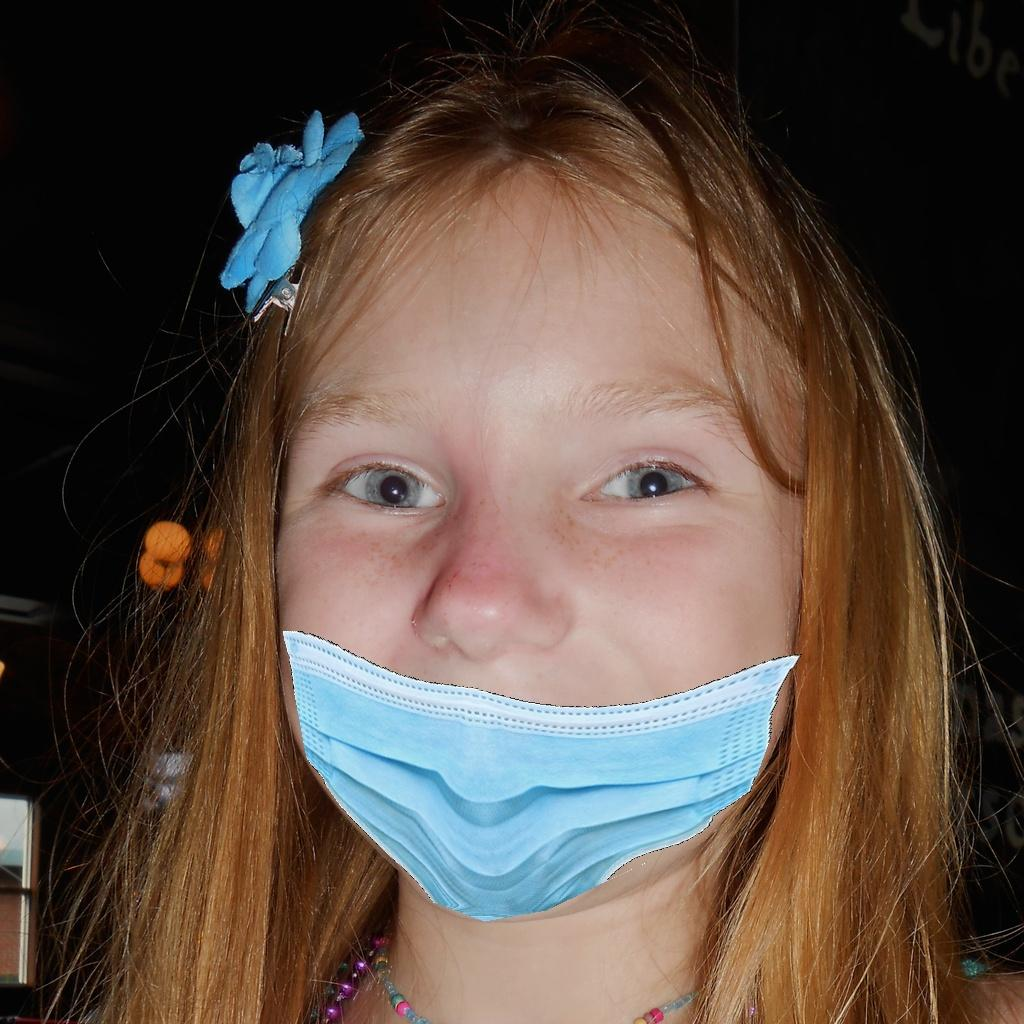Máscara Incorreta: (279, 329, 795, 888)
